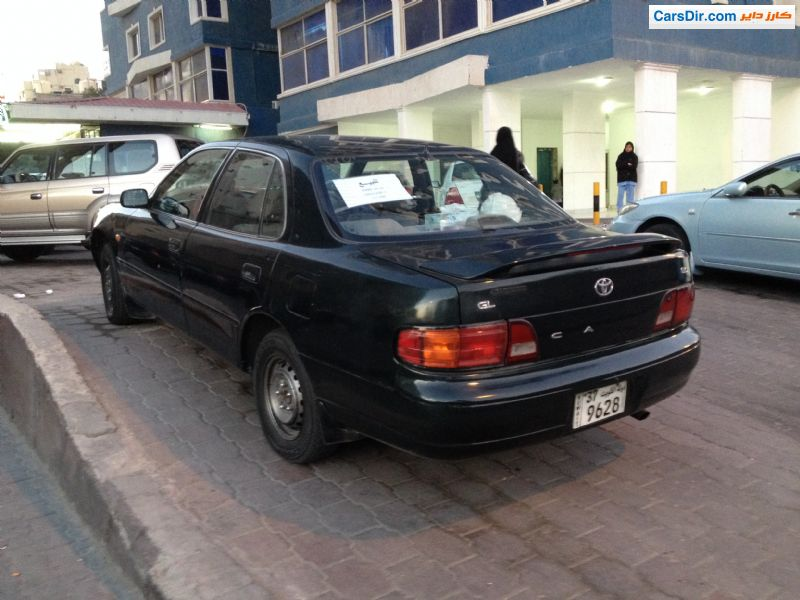car: (85, 130, 705, 469), (1, 129, 203, 274), (607, 143, 800, 294)
person: (613, 136, 640, 210)
